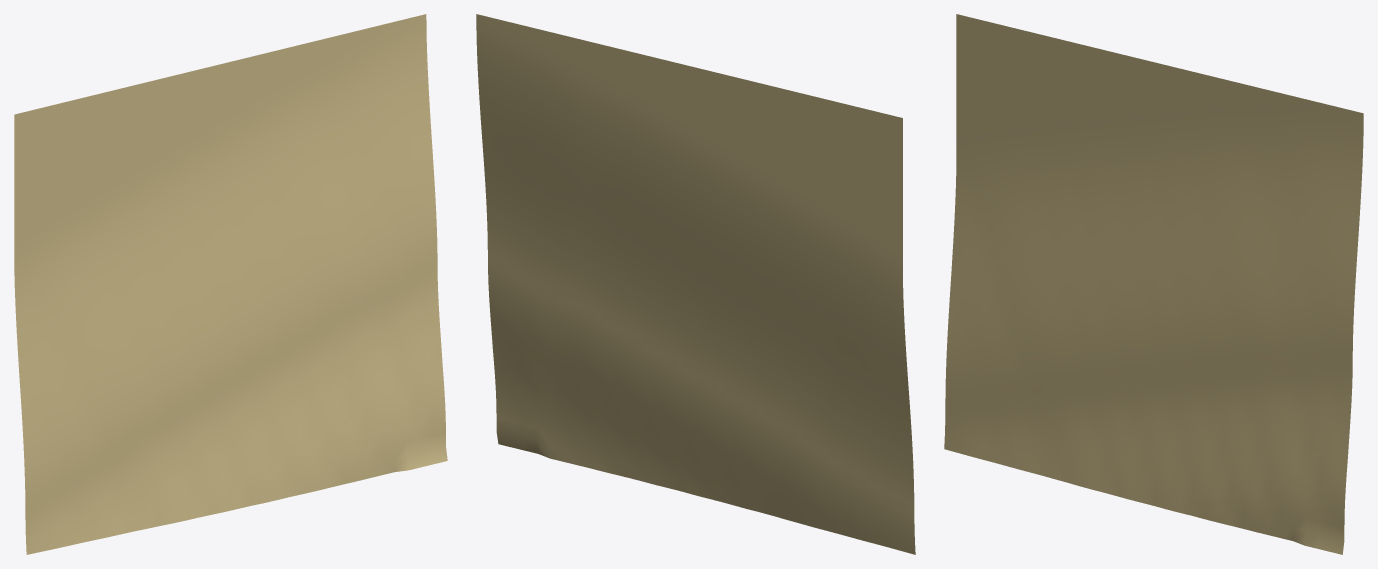
The model's file is island_terrain_19_10.obj.
3 views of the same model, side by side, from view 1: azimuth 30°, elevation 25°; view 2: azimuth 150°, elevation 25°; view 3: azimuth 330°, elevation 25° (orthographic). The views are drawn at different scales.
Visible parts, largest first — view 1: island_terrain_19_10; view 2: island_terrain_19_10; view 3: island_terrain_19_10.
Part boxes in pixels (box(x1,y1,x2,y2)): island_terrain_19_10: box(14, 14, 447, 554); island_terrain_19_10: box(476, 14, 915, 554); island_terrain_19_10: box(944, 14, 1363, 554).
Size of the model in its own units: 256 by 256 by 22.88.
